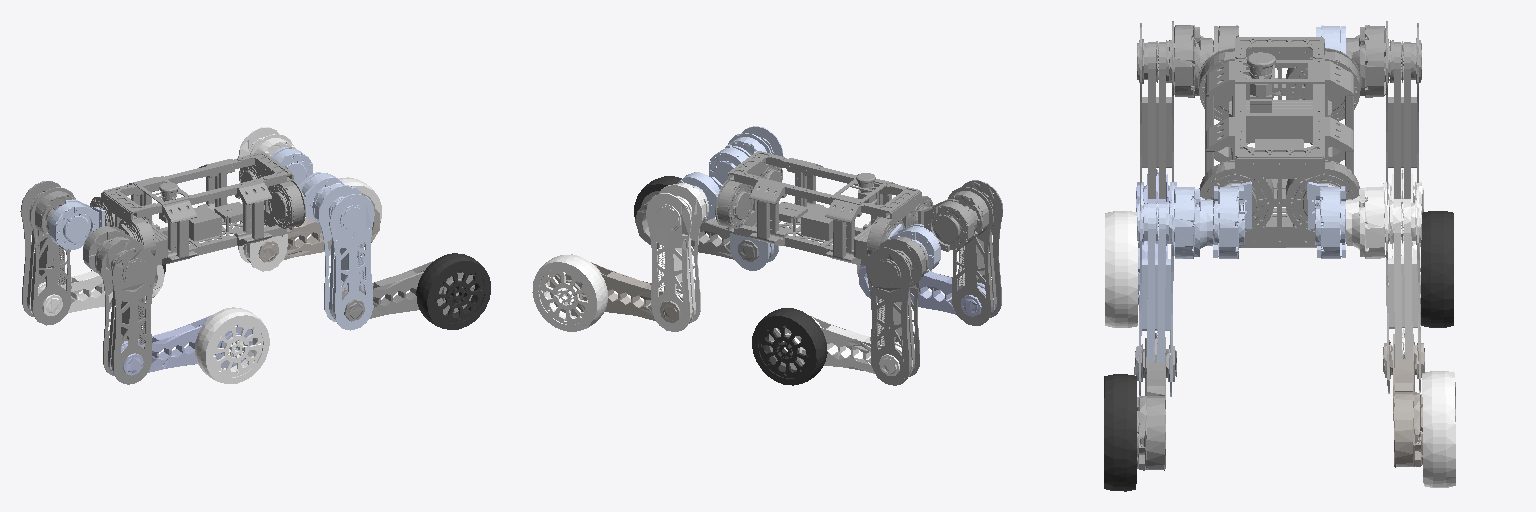
robot.urdf — dog_w1:
<?xml version="1.0" encoding="utf-8"?>
<!-- This URDF was automatically created by SolidWorks to URDF Exporter! Originally created by Stephen Brawner (brawner@gmail.com) 
     Commit Version: 1.6.0-4-g7f85cfe  Build Version: 1.6.7995.38578
     For more information, please see http://wiki.ros.org/sw_urdf_exporter -->
<robot
  name="dog_w1">
  <link
    name="base">
    <inertial>
      <origin
        xyz="-0.0147864691275648 -0.000240843744668318 0.0603881504748062"
        rpy="0 0 0" />
      <mass
        value="4.35142849053735" />
      <inertia
        ixx="0.00569038481480016"
        ixy="1.38350513313261E-07"
        ixz="2.42618664071E-08"
        iyy="0.00580527374255646"
        iyz="6.40892020722427E-10"
        izz="0.0065828588318927" />
    </inertial>
    <visual>
      <origin
        xyz="0 0 0"
        rpy="0 0 0" />
      <geometry>
        <mesh
          filename="package://dog_w1/meshes/base_link.STL" />
      </geometry>
      <material
        name="">
        <color
          rgba="0.698039215686274 0.698039215686274 0.698039215686274 1" />
      </material>
    </visual>
    <collision>
      <origin
        xyz="0 0 0"
        rpy="0 0 0" />
      <geometry>
        <mesh
          filename="package://dog_w1/meshes/base_link.STL" />
      </geometry>
    </collision>
  </link>
  <link
    name="FL_hip">
    <inertial>
      <origin
        xyz="0.00918713167549712 -0.000321830720773111 0.052231773915005"
        rpy="0 0 0" />
      <mass
        value="0.646217483748031" />
      <inertia
        ixx="0.000667770679164241"
        ixy="-3.84104822175816E-06"
        ixz="-8.70281852815313E-10"
        iyy="0.000331153131749513"
        iyz="-6.92216555764176E-06"
        izz="0.000391057887444827" />
    </inertial>
    <visual>
      <origin
        xyz="0 0 0"
        rpy="0 0 0" />
      <geometry>
        <mesh
          filename="package://dog_w1/meshes/lf_link1.STL" />
      </geometry>
      <material
        name="">
        <color
          rgba="0.866666666666667 0.909803921568627 1 1" />
      </material>
    </visual>
    <collision>
      <origin
        xyz="0 0 0"
        rpy="0 0 0" />
      <geometry>
        <mesh
          filename="package://dog_w1/meshes/lf_link1.STL" />
      </geometry>
    </collision>
  </link>
  <joint
    name="FL_hip_joint"
    type="revolute">
    <origin
      xyz="0.19659 0.060001 0.066987"
      rpy="1.5708 0 1.5708" />
    <parent
      link="base" />
    <child
      link="FL_hip" />
    <axis
      xyz="0 0 1" />
    <limit
      lower="-0.7"
      upper="1.5"
      effort="23"
      velocity="30" />
  </joint>
  <link
    name="FL_thigh">
    <inertial>
      <origin
        xyz="0.0398997652953203 0.00084280502160014 0.0541382587814409"
        rpy="0 0 0" />
      <mass
        value="1.20187455194166" />
      <inertia
        ixx="0.000667517810969843"
        ixy="3.21129696692497E-05"
        ixz="6.75690819649484E-08"
        iyy="0.00232955841549898"
        iyz="8.52723029594603E-08"
        izz="0.00292496380869034" />
    </inertial>
    <visual>
      <origin
        xyz="0 0 0"
        rpy="0 0 0" />
      <geometry>
        <mesh
          filename="package://dog_w1/meshes/lf_link2.STL" />
      </geometry>
      <material
        name="">
        <color
          rgba="1 1 1 1" />
      </material>
    </visual>
    <collision>
      <origin
        xyz="0 0 0"
        rpy="0 0 0" />
      <geometry>
        <mesh
          filename="package://dog_w1/meshes/lf_link2.STL" />
      </geometry>
    </collision>
  </link>
  <joint
    name="FL_thigh_joint"
    type="revolute">
    <origin
      xyz="0.029297 0.00034067 0.060013"
      rpy="-1.5708 0.01 -1.5596" />
    <parent
      link="FL_hip" />
    <child
      link="FL_thigh" />
    <axis
      xyz="0 0 1" />
    <limit
      lower="-2.4"
      upper="2.4"
      effort="23"
      velocity="30" />
  </joint>
  <link
    name="FL_calf">
    <inertial>
      <origin
        xyz="0.14552610133665 5.35769762489563E-05 0.020450964301284"
        rpy="0 0 0" />
      <mass
        value="1.04115942166631" />
      <inertia
        ixx="0.000544262193022923"
        ixy="-1.17925785499095E-06"
        ixz="6.92524226335854E-08"
        iyy="0.00138642634470212"
        iyz="8.39118876152267E-08"
        izz="0.00187887942201381" />
    </inertial>
    <visual>
      <origin
        xyz="0 0 0"
        rpy="0 0 0" />
      <geometry>
        <mesh
          filename="package://dog_w1/meshes/lf_link3.STL" />
      </geometry>
      <material
        name="">
        <color
          rgba="0.776470588235294 0.756862745098039 0.737254901960784 1" />
      </material>
    </visual>
    <collision>
      <origin
        xyz="0 0 0"
        rpy="0 0 0" />
      <geometry>
        <mesh
          filename="package://dog_w1/meshes/lf_link3.STL" />
      </geometry>
    </collision>
  </link>
  <joint
    name="FL_calf_joint"
    type="revolute">
    <origin
      xyz="0.20708 0.0041282 0.0743"
      rpy="0 0 -1.579" />
    <parent
      link="FL_thigh" />
    <child
      link="FL_calf" />
    <axis
      xyz="0 0 1" />
    <limit
      lower="-1.0"
      upper="4.14159"
      effort="23"
      velocity="30" />
  </joint>
  <link
    name="FL_foot">
    <inertial>
      <origin
        xyz="-8.07321568652153E-07 1.32256947124459E-05 -0.00770015484922416"
        rpy="0 0 0" />
      <mass
        value="0.393895188072125" />
      <inertia
        ixx="0.000938890952105975"
        ixy="3.12522994918592E-08"
        ixz="1.13611737888911E-18"
        iyy="0.000938889210956409"
        iyz="2.62044905107855E-18"
        izz="0.00177587176194739" />
    </inertial>
    <visual>
      <origin
        xyz="0 0 0"
        rpy="0 0 0" />
      <geometry>
        <mesh
          filename="package://dog_w1/meshes/lf_link4.STL" />
      </geometry>
      <material
        name="">
        <color
          rgba="1 1 1 1" />
      </material>
    </visual>
    <collision>
      <origin
        xyz="0 0 0"
        rpy="0 0 0" />
      <geometry>
        <mesh
          filename="package://dog_w1/meshes/lf_link4.STL" />
      </geometry>
    </collision>
  </link>
  <joint
    name="FL_foot_joint"
    type="continuous">
    <origin
      xyz="0.22 -1.3338E-05 0.0573"
      rpy="0 0 0" />
    <parent
      link="FL_calf" />
    <child
      link="FL_foot" />
    <axis
      xyz="0 0 1" />
  </joint>
  <link
    name="FR_hip">
    <inertial>
      <origin
        xyz="-0.00918453674579633 0.000345918766153103 0.0523929498150875"
        rpy="0 0 0" />
      <mass
        value="0.646217486393567" />
      <inertia
        ixx="0.000667814483113605"
        ixy="6.93487011274852E-08"
        ixz="-8.94063204837304E-08"
        iyy="0.000331109318927263"
        iyz="6.92172670305195E-06"
        izz="0.000391057885991999" />
    </inertial>
    <visual>
      <origin
        xyz="0 0 0"
        rpy="0 0 0" />
      <geometry>
        <mesh
          filename="package://dog_w1/meshes/rf_link1.STL" />
      </geometry>
      <material
        name="">
        <color
          rgba="0.866666666666667 0.909803921568627 1 1" />
      </material>
    </visual>
    <collision>
      <origin
        xyz="0 0 0"
        rpy="0 0 0" />
      <geometry>
        <mesh
          filename="package://dog_w1/meshes/rf_link1.STL" />
      </geometry>
    </collision>
  </link>
  <joint
    name="FR_hip_joint"
    type="revolute">
    <origin
      xyz="0.19659 -0.059999 0.066987"
      rpy="1.5708 0.0091394 1.5708" />
    <parent
      link="base" />
    <child
      link="FR_hip" />
    <axis
      xyz="0 0 1" />
    <limit
      lower="-1.5"
      upper="0.7"
      effort="23"
      velocity="30" />
  </joint>
  <link
    name="FR_thigh">
    <inertial>
      <origin
        xyz="0.0272907449056829 0.000595975109338204 0.0525452736616471"
        rpy="0 0 0" />
      <mass
        value="1.1177352144082" />
      <inertia
        ixx="0.000637105088054553"
        ixy="3.21129473371874E-05"
        ixz="6.75687040798388E-08"
        iyy="0.00229914567621408"
        iyz="8.52713624414746E-08"
        izz="0.00286563107874373" />
    </inertial>
    <visual>
      <origin
        xyz="0 0 0"
        rpy="0 0 0" />
      <geometry>
        <mesh
          filename="package://dog_w1/meshes/rf_link2.STL" />
      </geometry>
      <material
        name="">
        <color
          rgba="0.866666666666667 0.909803921568627 1 1" />
      </material>
    </visual>
    <collision>
      <origin
        xyz="0 0 0"
        rpy="0 0 0" />
      <geometry>
        <mesh
          filename="package://dog_w1/meshes/rf_link2.STL" />
      </geometry>
    </collision>
  </link>
  <joint
    name="FR_thigh_joint"
    type="revolute">
    <origin
      xyz="-0.029301 1.2411E-05 0.059987"
      rpy="1.5708 0.0008 -1.5708" />
    <parent
      link="FR_hip" />
    <child
      link="FR_thigh" />
    <axis
      xyz="0 0 1" />
    <limit
      lower="-2.4"
      upper="2.4"
      effort="23"
      velocity="30" />
  </joint>
  <link
    name="FR_calf">
    <inertial>
      <origin
        xyz="0.145526101334233 5.35767933550341E-05 0.0194509644021952"
        rpy="0 0 0" />
      <mass
        value="1.04115942092907" />
      <inertia
        ixx="0.000544262189402091"
        ixy="-1.17926389287577E-06"
        ixz="6.9254137308529E-08"
        iyy="0.0013864263448577"
        iyz="8.39095753619406E-08"
        izz="0.00187887941829589" />
    </inertial>
    <visual>
      <origin
        xyz="0 0 0"
        rpy="0 0 0" />
      <geometry>
        <mesh
          filename="package://dog_w1/meshes/rf_link3.STL" />
      </geometry>
      <material
        name="">
        <color
          rgba="0.698039215686274 0.698039215686274 0.698039215686274 1" />
      </material>
    </visual>
    <collision>
      <origin
        xyz="0 0 0"
        rpy="0 0 0" />
      <geometry>
        <mesh
          filename="package://dog_w1/meshes/rf_link3.STL" />
      </geometry>
    </collision>
  </link>
  <joint
    name="FR_calf_joint"
    type="revolute">
    <origin
      xyz="0.20706 0.0041287 0.0753"
      rpy="0 0 1.57" />
    <parent
      link="FR_thigh" />
    <child
      link="FR_calf" />
    <axis
      xyz="0 0 1" />
    <limit
      lower="-4.14159"
      upper="1.0"
      effort="23"
      velocity="30" />
  </joint>
  <link
    name="FR_foot">
    <inertial>
      <origin
        xyz="-2.71735868917489E-07 -1.12565331208958E-07 -0.00770015484733899"
        rpy="0 0 0" />
      <mass
        value="0.393895188072126" />
      <inertia
        ixx="0.000938890952105976"
        ixy="3.12522994917372E-08"
        ixz="-7.26225972173602E-20"
        iyy="0.000938889210956411"
        iyz="-2.05287337757664E-20"
        izz="0.0017758717619474" />
    </inertial>
    <visual>
      <origin
        xyz="0 0 0"
        rpy="0 0 0" />
      <geometry>
        <mesh
          filename="package://dog_w1/meshes/rf_link4.STL" />
      </geometry>
      <material
        name="">
        <color
          rgba="0.298039215686275 0.298039215686275 0.298039215686275 1" />
      </material>
    </visual>
    <collision>
      <origin
        xyz="0 0 0"
        rpy="0 0 0" />
      <geometry>
        <mesh
          filename="package://dog_w1/meshes/rf_link4.STL" />
      </geometry>
    </collision>
  </link>
  <joint
    name="FR_foot_joint"
    type="continuous">
    <origin
      xyz="0.22 0 0.0563"
      rpy="0 0 0" />
    <parent
      link="FR_calf" />
    <child
      link="FR_foot" />
    <axis
      xyz="0 0 1" />
  </joint>
  <link
    name="RL_hip">
    <inertial>
      <origin
        xyz="0.00918441607942197 -0.000345927430618803 0.0523929493801136"
        rpy="0 0 0" />
      <mass
        value="0.646217497919035" />
      <inertia
        ixx="0.00066781446020297"
        ixy="6.9349976012041E-08"
        ixz="8.94036666236083E-08"
        iyy="0.000331109303153004"
        iyz="-6.92174978717764E-06"
        izz="0.000391057879734395" />
    </inertial>
    <visual>
      <origin
        xyz="0 0 0"
        rpy="0 0 0" />
      <geometry>
        <mesh
          filename="package://dog_w1/meshes/lb_link1.STL" />
      </geometry>
      <material
        name="">
        <color
          rgba="0.866666666666667 0.909803921568627 1 1" />
      </material>
    </visual>
    <collision>
      <origin
        xyz="0 0 0"
        rpy="0 0 0" />
      <geometry>
        <mesh
          filename="package://dog_w1/meshes/lb_link1.STL" />
      </geometry>
    </collision>
  </link>
  <joint
    name="RL_hip_joint"
    type="revolute">
    <origin
      xyz="-0.196607934343814 0.0599991927634169 0.0669867742981582"
      rpy="-1.5707963267949 0 1.5707963267949" />
    <parent
      link="base" />
    <child
      link="RL_hip" />
    <axis
      xyz="0 0 1" />
    <limit
      lower="-1.5"
      upper="0.7"
      effort="23"
      velocity="30" />
  </joint>
  <link
    name="RL_thigh">
    <inertial>
      <origin
        xyz="0.0272940487835907 0.000600321728559422 0.0525452736286622"
        rpy="0 0 0" />
      <mass
        value="1.11773522391949" />
      <inertia
        ixx="0.000637105072418177"
        ixy="3.21129339005416E-05"
        ixz="6.75711668996021E-08"
        iyy="0.00229914567851505"
        iyz="8.52788113128314E-08"
        izz="0.00286563106473801" />
    </inertial>
    <visual>
      <origin
        xyz="0 0 0"
        rpy="0 0 0" />
      <geometry>
        <mesh
          filename="package://dog_w1/meshes/lb_link2.STL" />
      </geometry>
      <material
        name="">
        <color
          rgba="0.698039215686274 0.698039215686274 0.698039215686274 1" />
      </material>
    </visual>
    <collision>
      <origin
        xyz="0 0 0"
        rpy="0 0 0" />
      <geometry>
        <mesh
          filename="package://dog_w1/meshes/lb_link2.STL" />
      </geometry>
    </collision>
  </link>
  <joint
    name="RL_thigh_joint"
    type="revolute">
    <origin
      xyz="0.029301 -1.2418E-05 0.059987"
      rpy="1.5708 0.0008 1.5708" />
    <parent
      link="RL_hip" />
    <child
      link="RL_thigh" />
    <axis
      xyz="0 0 1" />
    <limit
      lower="-2.4"
      upper="2.4"
      effort="23"
      velocity="30" />
  </joint>
  <link
    name="RL_calf">
    <inertial>
      <origin
        xyz="0.1455261009345 5.35772399169743E-05 0.0194509650300917"
        rpy="0 0 0" />
      <mass
        value="1.04115944116158" />
      <inertia
        ixx="0.000544262171627302"
        ixy="-1.17928614525574E-06"
        ixz="6.92533032049035E-08"
        iyy="0.00138642633507739"
        iyz="8.39106939759871E-08"
        izz="0.00187887939004156" />
    </inertial>
    <visual>
      <origin
        xyz="0 0 0"
        rpy="0 0 0" />
      <geometry>
        <mesh
          filename="package://dog_w1/meshes/lb_link3.STL" />
      </geometry>
      <material
        name="">
        <color
          rgba="1 1 1 1" />
      </material>
    </visual>
    <collision>
      <origin
        xyz="0 0 0"
        rpy="0 0 0" />
      <geometry>
        <mesh
          filename="package://dog_w1/meshes/lb_link3.STL" />
      </geometry>
    </collision>
  </link>
  <joint
    name="RL_calf_joint"
    type="revolute">
    <origin
      xyz="0.207060286230459 0.00413307524057621 0.0752999996041974"
      rpy="0 0 -1.57" />
    <parent
      link="RL_thigh" />
    <child
      link="RL_calf" />
    <axis
      xyz="0 0 1" />
    <limit
      lower="-1.0"
      upper="4.14159"
      effort="23"
      velocity="30" />
  </joint>
  <link
    name="RL_foot">
    <inertial>
      <origin
        xyz="-8.07619113640801E-07 1.32258051733503E-05 -0.00770015495355872"
        rpy="0 0 0" />
      <mass
        value="0.393895188072125" />
      <inertia
        ixx="0.000938890952105975"
        ixy="3.12522994921574E-08"
        ixz="-2.06173164532513E-18"
        iyy="0.000938889210956409"
        iyz="4.41490748914541E-18"
        izz="0.00177587176194739" />
    </inertial>
    <visual>
      <origin
        xyz="0 0 0"
        rpy="0 0 0" />
      <geometry>
        <mesh
          filename="package://dog_w1/meshes/lb_link4.STL" />
      </geometry>
      <material
        name="">
        <color
          rgba="0.298039215686275 0.298039215686275 0.298039215686275 1" />
      </material>
    </visual>
    <collision>
      <origin
        xyz="0 0 0"
        rpy="0 0 0" />
      <geometry>
        <mesh
          filename="package://dog_w1/meshes/lb_link4.STL" />
      </geometry>
    </collision>
  </link>
  <joint
    name="RL_foot_joint"
    type="continuous">
    <origin
      xyz="0.22 -1.3338E-05 0.0563"
      rpy="0 0 0" />
    <parent
      link="RL_calf" />
    <child
      link="RL_foot" />
    <axis
      xyz="0 0 1" />
  </joint>
  <link
    name="RR_hip">
    <inertial>
      <origin
        xyz="-0.00918441607942361 0.000451193699395511 0.05223177478535"
        rpy="0 0 0" />
      <mass
        value="0.646217497919034" />
      <inertia
        ixx="0.000667814460202971"
        ixy="-6.91576846670852E-08"
        ixz="7.84167852729463E-08"
        iyy="0.000331109303153005"
        iyz="6.92174978717852E-06"
        izz="0.000391057879734394" />
    </inertial>
    <visual>
      <origin
        xyz="0 0 0"
        rpy="0 0 0" />
      <geometry>
        <mesh
          filename="package://dog_w1/meshes/rb_link1.STL" />
      </geometry>
      <material
        name="">
        <color
          rgba="0.698039215686274 0.698039215686274 0.698039215686274 1" />
      </material>
    </visual>
    <collision>
      <origin
        xyz="0 0 0"
        rpy="0 0 0" />
      <geometry>
        <mesh
          filename="package://dog_w1/meshes/rb_link1.STL" />
      </geometry>
    </collision>
  </link>
  <joint
    name="RR_hip_joint"
    type="revolute">
    <origin
      xyz="-0.19661 -0.059999 0.067013"
      rpy="-1.5708 0 1.5708" />
    <parent
      link="base" />
    <child
      link="RR_hip" />
    <axis
      xyz="0 0 1" />
    <limit
      lower="-0.7"
      upper="1.5"
      effort="23"
      velocity="30" />
  </joint>
  <link
    name="RR_thigh">
    <inertial>
      <origin
        xyz="0.0273106987841865 -0.000485261377038054 0.0525452736350395"
        rpy="0 0 0" />
      <mass
        value="1.11773522361977" />
      <inertia
        ixx="0.000637184144061477"
        ixy="-3.40976278032606E-05"
        ixz="7.09105732834386E-08"
        iyy="0.00229906660693748"
        iyz="8.25148965574049E-08"
        izz="0.00286563106480329" />
    </inertial>
    <visual>
      <origin
        xyz="0 0 0"
        rpy="0 0 0" />
      <geometry>
        <mesh
          filename="package://dog_w1/meshes/rb_link2.STL" />
      </geometry>
      <material
        name="">
        <color
          rgba="0.698039215686274 0.698039215686274 0.698039215686274 1" />
      </material>
    </visual>
    <collision>
      <origin
        xyz="0 0 0"
        rpy="0 0 0" />
      <geometry>
        <mesh
          filename="package://dog_w1/meshes/rb_link2.STL" />
      </geometry>
    </collision>
  </link>
  <joint
    name="RR_thigh_joint"
    type="revolute">
    <origin
      xyz="-0.029301 1.4033E-05 0.060013"
      rpy="-1.5708 0.0 1.5708" />
    <parent
      link="RR_hip" />
    <child
      link="RR_thigh" />
    <axis
      xyz="0 0 1" />
    <limit
      lower="-2.4"
      upper="2.4"
      effort="23"
      velocity="30" />
  </joint>
  <link
    name="RR_calf">
    <inertial>
      <origin
        xyz="0.145526101397181 5.35768151297827E-05 0.0194509646104395"
        rpy="0 0 0" />
      <mass
        value="1.04115943102904" />
      <inertia
        ixx="0.00054426217257991"
        ixy="-1.17928914627757E-06"
        ixz="6.92533219176065E-08"
        iyy="0.00138642633382039"
        iyz="8.39106322697615E-08"
        izz="0.00187887938972969" />
    </inertial>
    <visual>
      <origin
        xyz="0 0 0"
        rpy="0 0 0" />
      <geometry>
        <mesh
          filename="package://dog_w1/meshes/rb_link3.STL" />
      </geometry>
      <material
        name="">
        <color
          rgba="0.796078431372549 0.823529411764706 0.937254901960784 1" />
      </material>
    </visual>
    <collision>
      <origin
        xyz="0 0 0"
        rpy="0 0 0" />
      <geometry>
        <mesh
          filename="package://dog_w1/meshes/rb_link3.STL" />
      </geometry>
    </collision>
  </link>
  <joint
    name="RR_calf_joint"
    type="revolute">
    <origin
      xyz="0.20708 -0.0041113 0.0753"
      rpy="0 0 1.57" />
    <parent
      link="RR_thigh" />
    <child
      link="RR_calf" />
    <axis
      xyz="0 0 1" />
    <limit
      lower="-4.14159"
      upper="1.0"
      effort="23"
      velocity="30" />
  </joint>
  <link
    name="RR_foot">
    <inertial>
      <origin
        xyz="-8.07327847240913E-07 1.32256934732844E-05 -0.00770015485507014"
        rpy="0 0 0" />
      <mass
        value="0.393895188072126" />
      <inertia
        ixx="0.000938890952105976"
        ixy="3.12522994920625E-08"
        ixz="-1.69154525797682E-19"
        iyy="0.000938889210956409"
        iyz="2.61211070580482E-18"
        izz="0.00177587176194739" />
    </inertial>
    <visual>
      <origin
        xyz="0 0 0"
        rpy="0 0 0" />
      <geometry>
        <mesh
          filename="package://dog_w1/meshes/rb_link4.STL" />
      </geometry>
      <material
        name="">
        <color
          rgba="1 1 1 1" />
      </material>
    </visual>
    <collision>
      <origin
        xyz="0 0 0"
        rpy="0 0 0" />
      <geometry>
        <mesh
          filename="package://dog_w1/meshes/rb_link4.STL" />
      </geometry>
    </collision>
  </link>
  <joint
    name="RR_foot_joint"
    type="continuous">
    <origin
      xyz="0.22 -1.3338E-05 0.0563"
      rpy="0 0 0" />
    <parent
      link="RR_calf" />
    <child
      link="RR_foot" />
    <axis
      xyz="0 0 1" />
  </joint>
</robot>

--- Render facts (derived) ---
Views: 3 orthographic renders of the robot side by side, from view 1: azimuth 30°, elevation 25°; view 2: azimuth 150°, elevation 25°; view 3: azimuth 270°, elevation 25°.
Robot: dog_w1 — 17 links, 16 joints (12 revolute, 4 continuous); root link base; default pose: every joint at zero.
Visible links, largest first — view 1: base, RR_thigh, FR_thigh, RL_thigh, RR_foot, FR_foot, FR_calf, RR_calf, RL_hip, FL_thigh, RL_calf, FL_calf (+3 smaller); view 2: base, FL_thigh, RL_thigh, RR_thigh, FL_foot, RL_foot, RL_calf, FL_calf, RR_hip, FR_thigh, RR_calf, FR_calf (+3 smaller); view 3: base, FR_thigh, FL_thigh, RR_thigh, RL_thigh, FL_foot, FR_foot, RR_foot, RL_foot, FR_calf, FL_calf, FL_hip (+5 smaller).
Link boxes in pixels (x1,y1,x2,y2): base: (90, 152, 305, 265); RR_thigh: (95, 237, 156, 384); FR_thigh: (312, 183, 374, 330); RL_thigh: (20, 181, 75, 325); RR_foot: (195, 307, 269, 383); FR_foot: (416, 253, 490, 329); FR_calf: (332, 261, 474, 321); RR_calf: (110, 315, 252, 375); RL_hip: (49, 199, 104, 249); FL_thigh: (238, 127, 295, 271); RL_calf: (29, 265, 164, 315); FL_calf: (245, 193, 380, 262); base: (715, 151, 933, 265); FL_thigh: (646, 183, 708, 331); RL_thigh: (866, 237, 928, 385); RR_thigh: (947, 180, 1002, 325); FL_foot: (532, 254, 607, 331); RL_foot: (752, 308, 827, 385); RL_calf: (769, 314, 912, 375); FL_calf: (549, 262, 693, 322); RR_hip: (918, 199, 974, 251); FR_thigh: (725, 126, 783, 270); RR_calf: (858, 265, 994, 316); FR_calf: (635, 191, 771, 261); base: (1198, 37, 1361, 247); FR_thigh: (1137, 182, 1212, 396); FL_thigh: (1346, 182, 1421, 393); RR_thigh: (1137, 21, 1212, 198); RL_thigh: (1346, 21, 1421, 198); FL_foot: (1422, 371, 1455, 487); FR_foot: (1104, 374, 1136, 491); RR_foot: (1105, 211, 1137, 327); RL_foot: (1421, 211, 1453, 327); FR_calf: (1134, 333, 1176, 470); FL_calf: (1383, 333, 1424, 467); FL_hip: (1307, 181, 1346, 258).
Bounding box of the posed robot: 0.8708 × 0.4736 × 0.373 m (x, y, z).
17 mesh visuals loaded from 17 distinct referenced files (17 binary STL).
